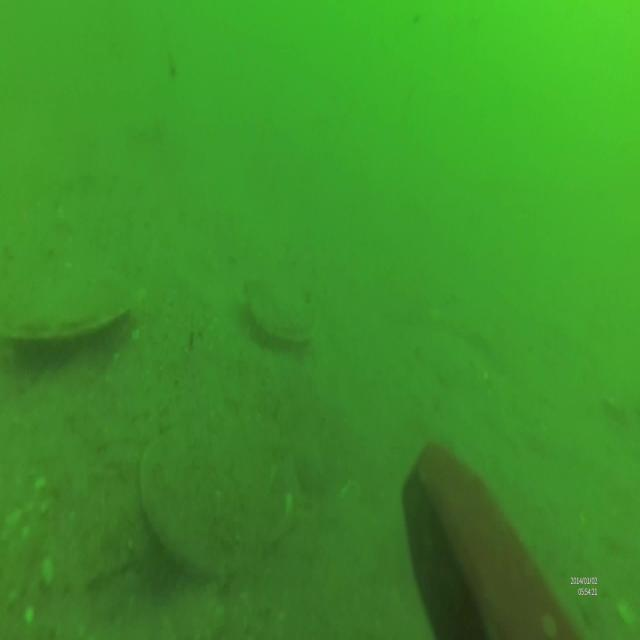scallop: (139, 416, 301, 584), (0, 266, 147, 364), (243, 270, 314, 347)
